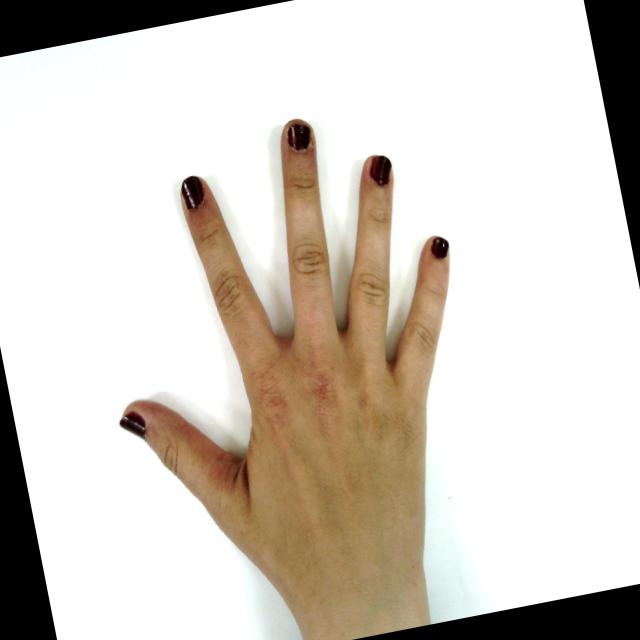Nail: (180, 175, 203, 209), (117, 413, 144, 440), (286, 120, 310, 150), (369, 155, 391, 185), (431, 237, 448, 258)
